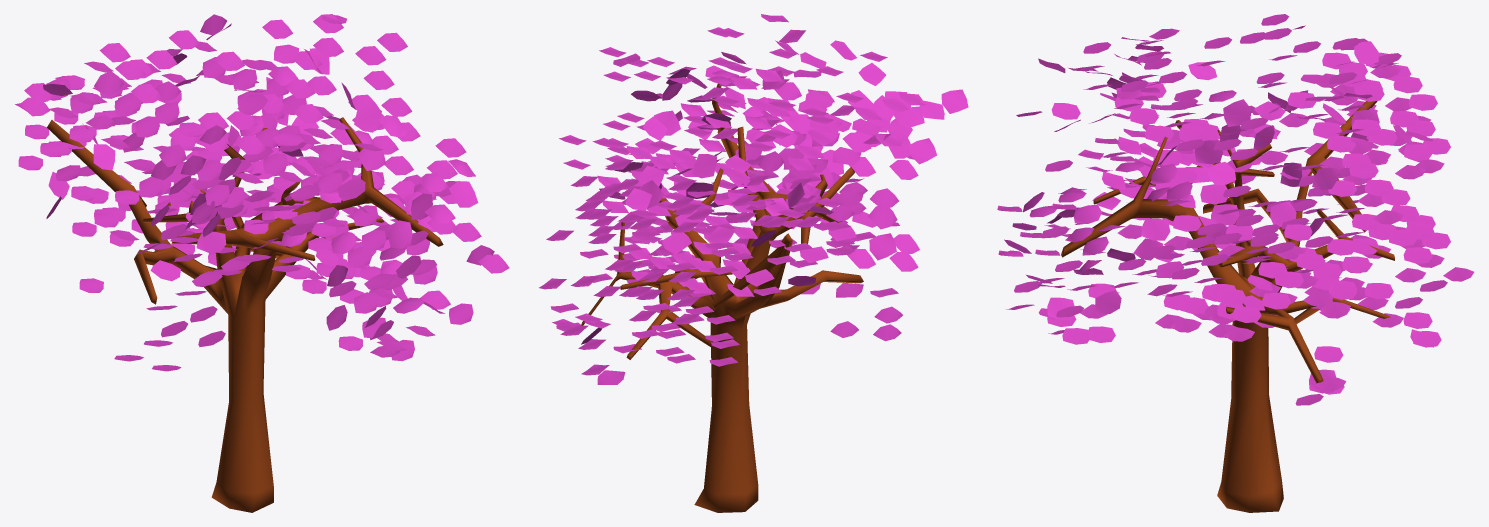
File: baum_b005.FBX
3 views of the same model, side by side, from view 1: azimuth 30°, elevation 25°; view 2: azimuth 150°, elevation 25°; view 3: azimuth 270°, elevation 25° (orthographic). The views are drawn at different scales.
Parts seen in each view (by area): view 1: Baum_B005; view 2: Baum_B005; view 3: Baum_B005.
Part boxes in pixels (x1,y1,x2,y2): Baum_B005: [15, 14, 509, 512]; Baum_B005: [539, 14, 968, 512]; Baum_B005: [997, 14, 1474, 512].
Bounding box in the file's own units: 31.12 × 39.45 × 36.42.
